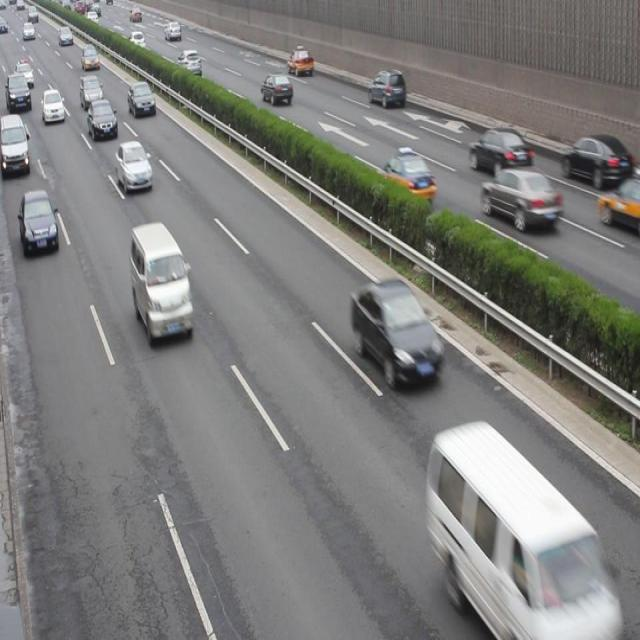car: (348, 274, 442, 388), (480, 162, 559, 232), (558, 130, 640, 189), (469, 127, 532, 181), (374, 152, 434, 205), (18, 190, 60, 258), (594, 172, 640, 232), (115, 140, 152, 192), (366, 67, 406, 108), (88, 98, 120, 144), (126, 79, 156, 120), (258, 71, 292, 107), (286, 47, 314, 80), (41, 88, 65, 125)
truck: (423, 417, 622, 640), (128, 222, 192, 342), (1, 113, 31, 179)
